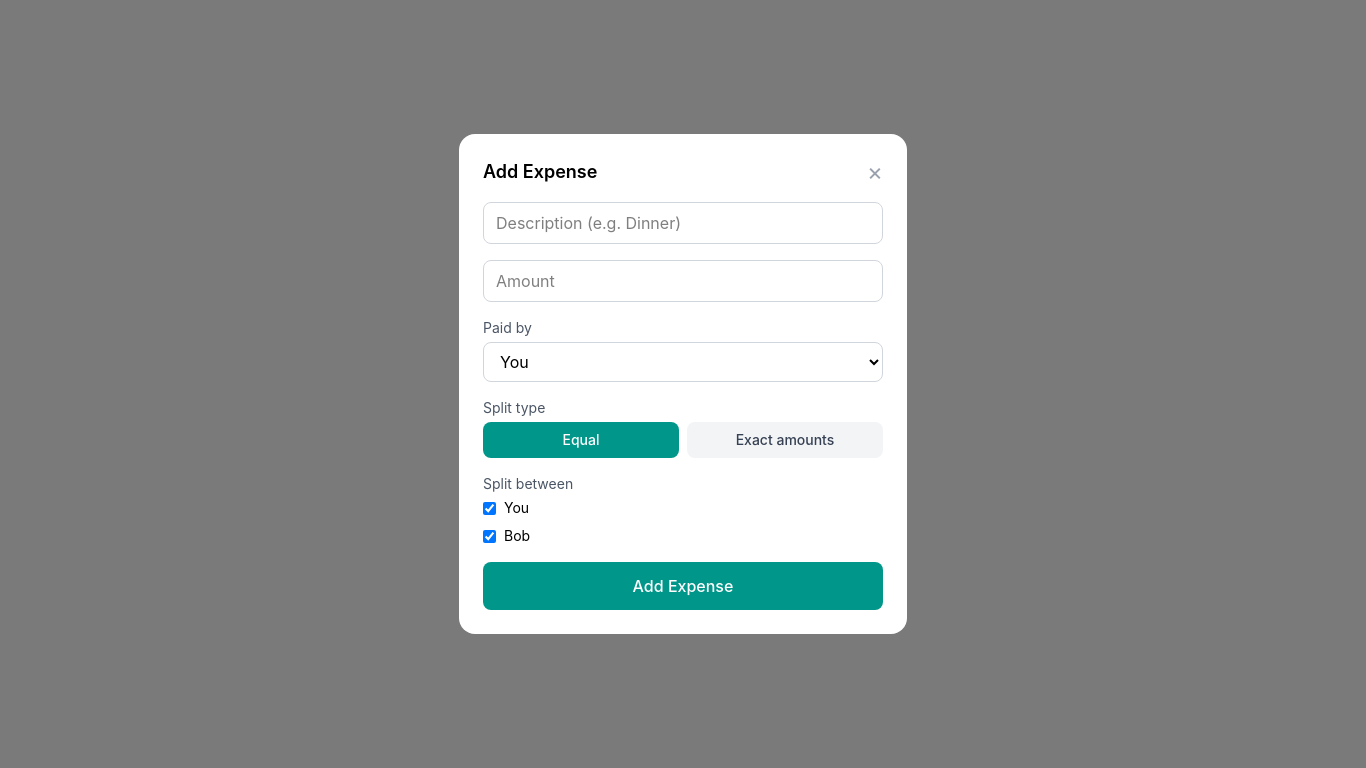
Test: AddExpenseModal › shows per-person cost for equal split
Type "100" into the number field with placeholder "Amount" at [683, 281], box 483,260 -> 883,302
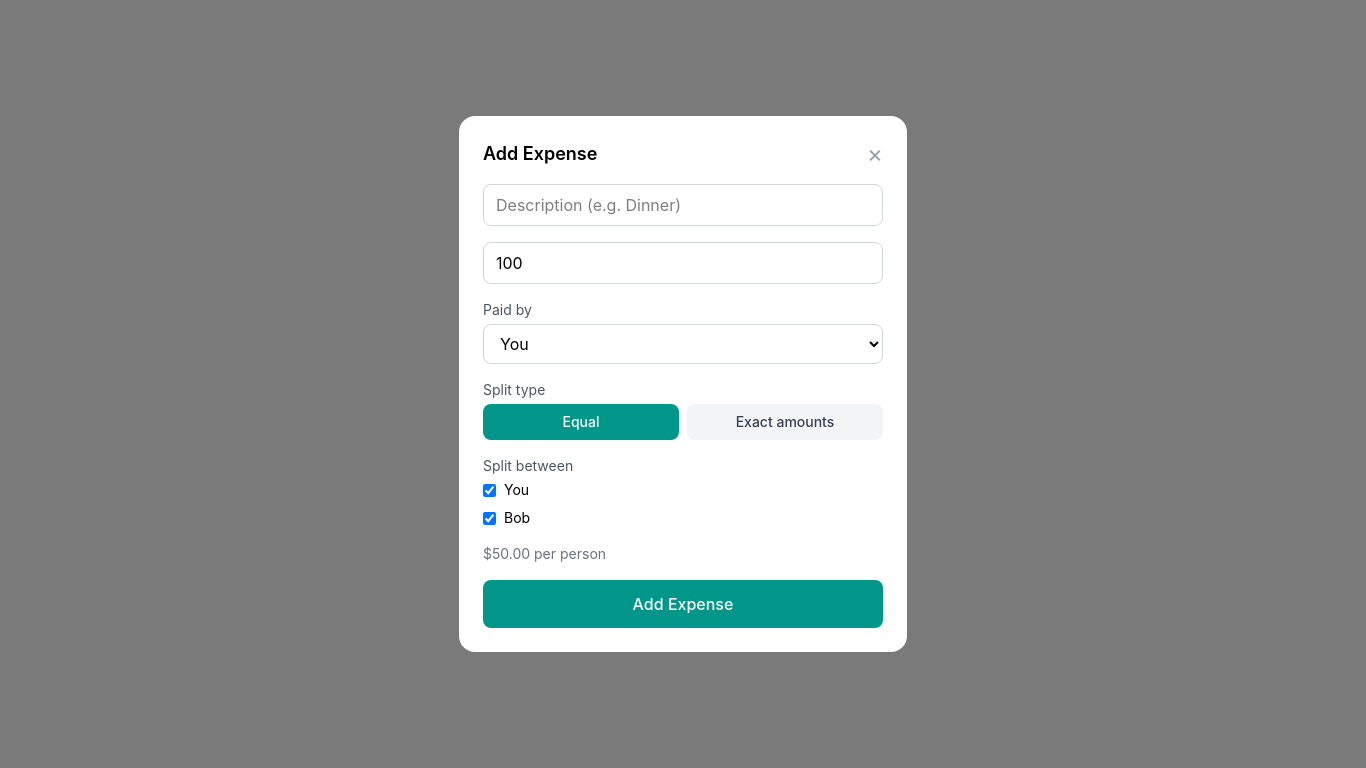
expect the text "$50.00 per person" is shown: met, box 483,545 -> 606,562
